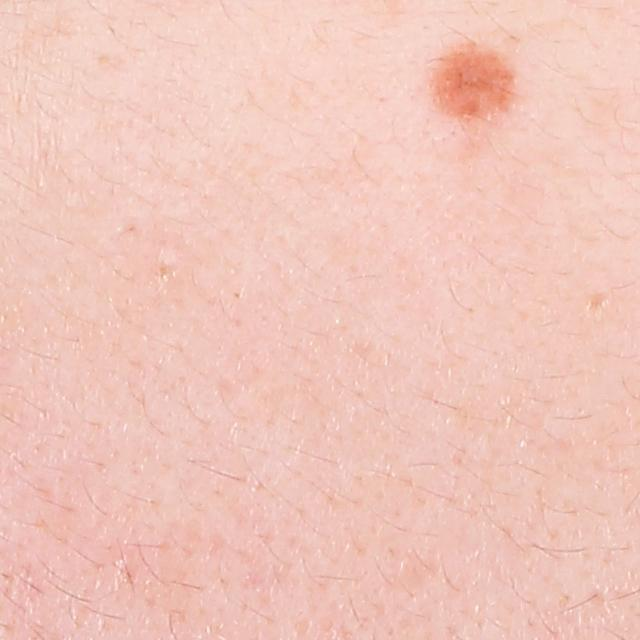atrophic_scar: (582, 290, 607, 317)
nevus: (425, 24, 525, 121)
